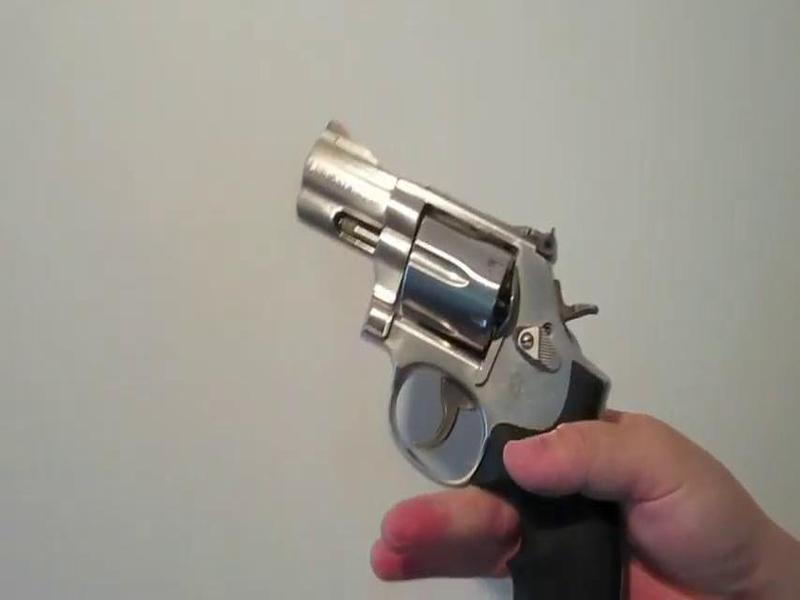Revolver: (293, 99, 670, 600)
